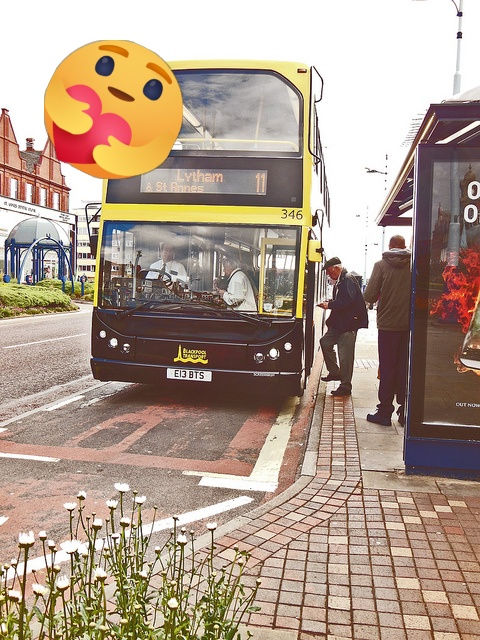care: (44, 40, 183, 179)
